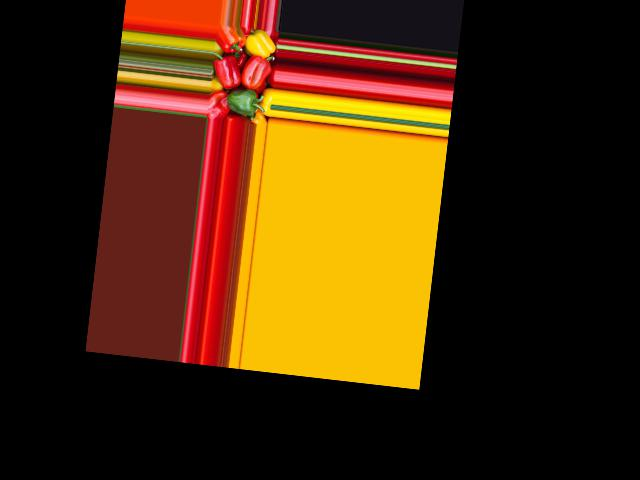bell_pepper: (241, 27, 279, 61)
